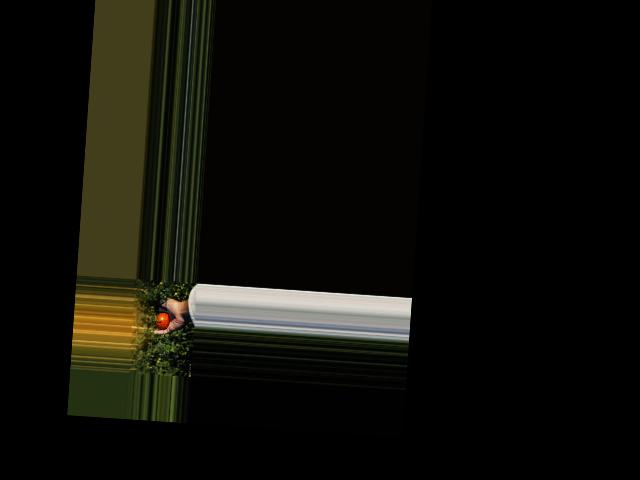tomato: (154, 313, 170, 330)
